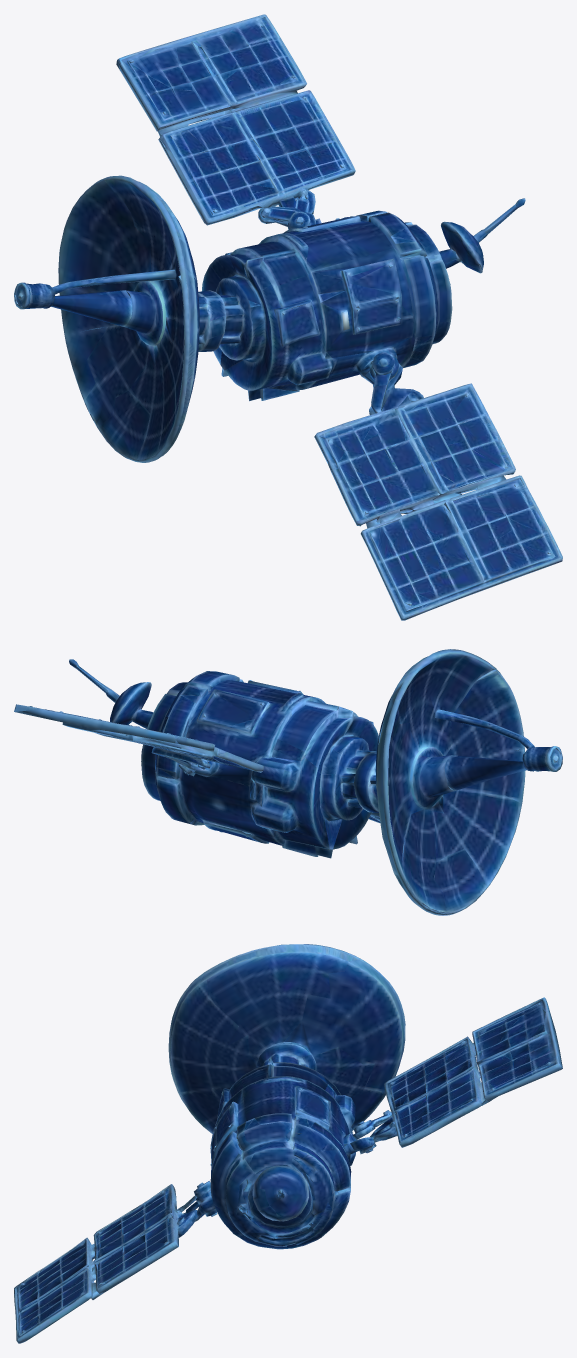
File: satellite.glb
The picture shows the model from 3 angles, top to bottom: view 1: azimuth 30°, elevation 25°; view 2: azimuth 150°, elevation 25°; view 3: azimuth 270°, elevation 25°; orthographic projection. The views are drawn at different scales.
Visible parts, largest first — view 1: output_unwrapped; view 2: output_unwrapped; view 3: output_unwrapped.
Part boxes in pixels (x1,y1,x2,y2): output_unwrapped: (14, 14, 562, 620); output_unwrapped: (14, 649, 562, 915); output_unwrapped: (14, 944, 562, 1343).
Bounding box in the file's own units: 0.9368 × 0.6107 × 1.
Materials: 1 (1 with a texture image).
